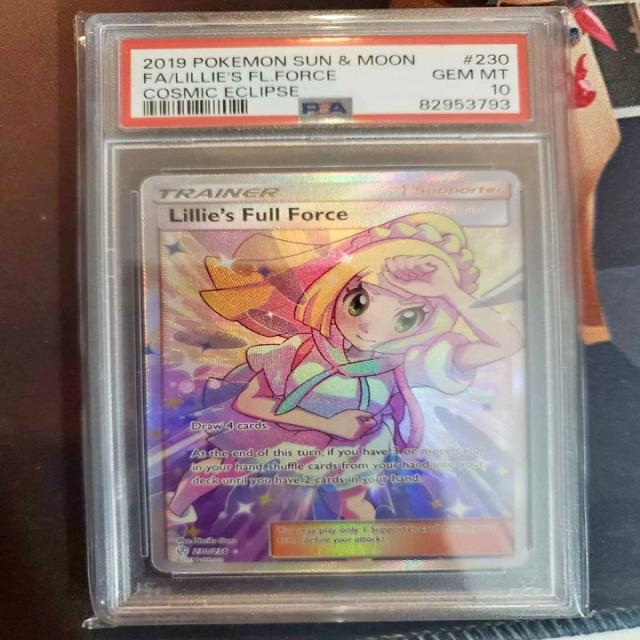card: (139, 170, 529, 573)
